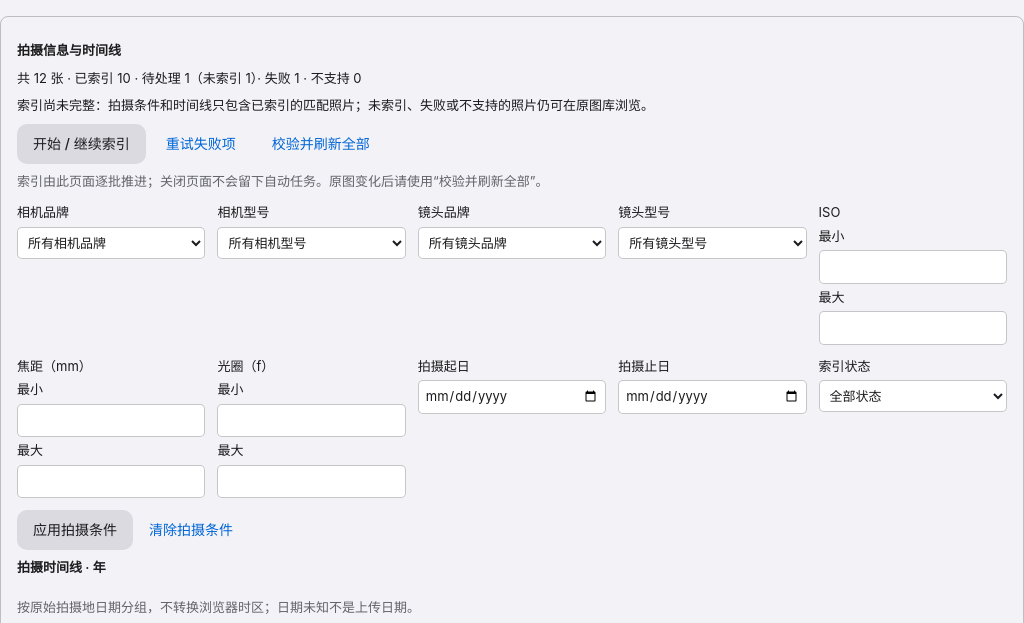
continues bounded batches and exposes explicit retry failures
The image size is (1024, 623).
Expected: the text "索引尚未完整：拍摄条件和时间线只包含已索引的匹配照片；未索引、失败或不支持的照片仍可在原图库浏览。" is shown, 17,97 -> 654,113
Click the button "开始 / 继续索引": [81, 144] box 17,124 -> 146,164
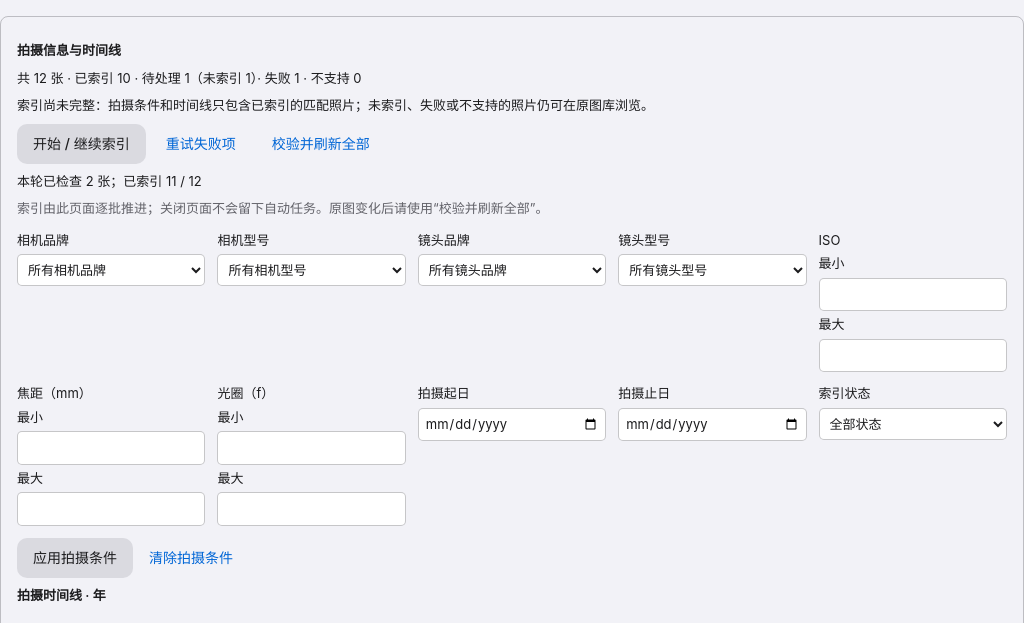
Click the button "重试失败项": [201, 144] box 150,124 -> 252,164
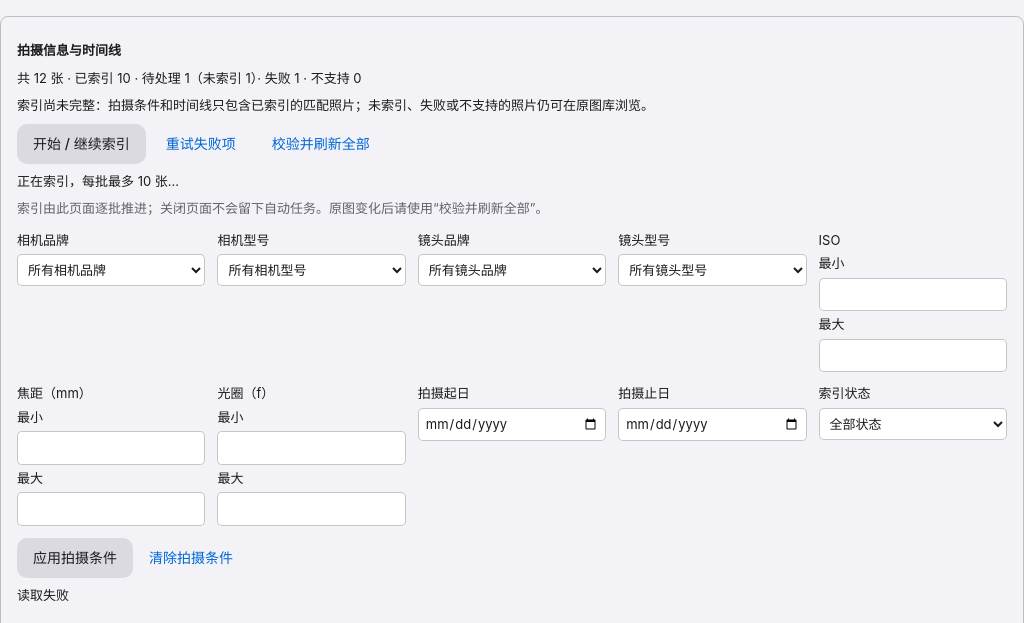
Result: the message "读取失败" is shown at 17,586 -> 69,602
